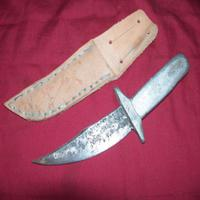knife: (25, 52, 191, 171)
